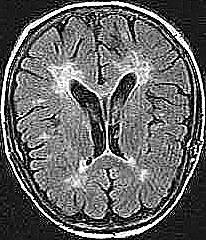Normal_Brain: (1, 1, 206, 240)
